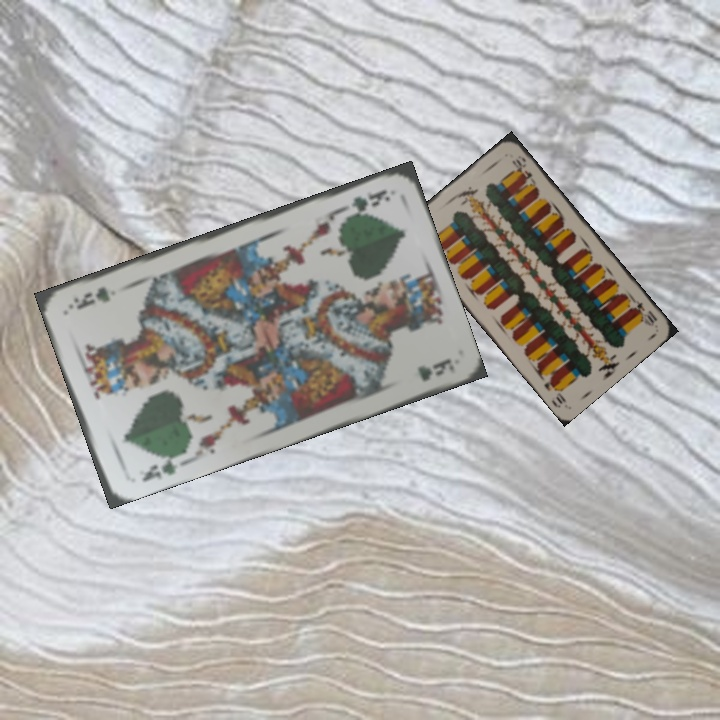E10: (628, 295, 660, 329)
GK: (341, 185, 393, 220), (137, 451, 180, 485)
